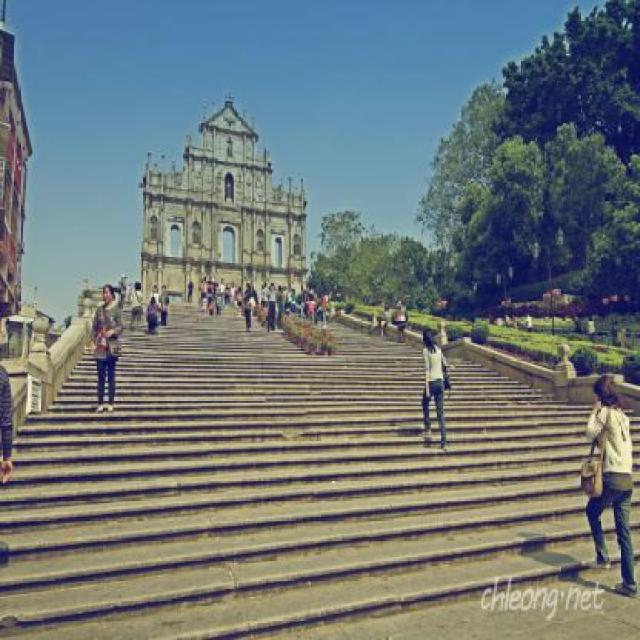stair: (0, 300, 640, 640)
